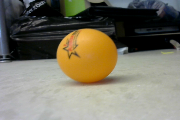PingPongBall: (57, 28, 118, 83)
